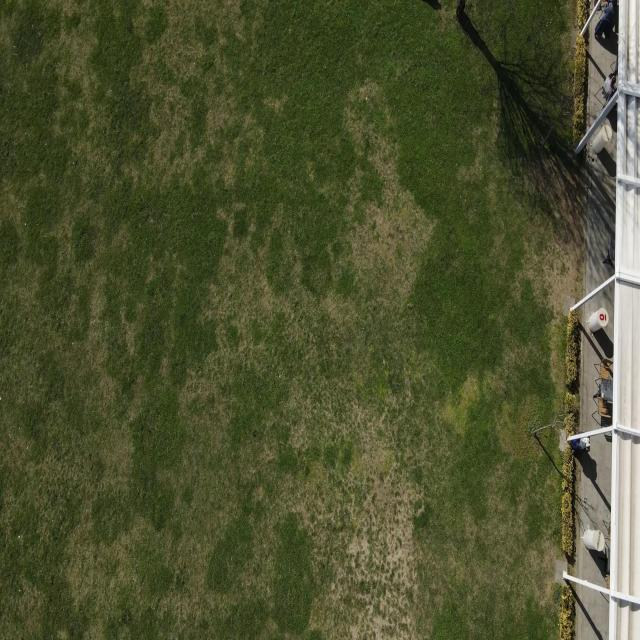p3rson: (595, 1, 618, 37), (602, 76, 616, 99)
